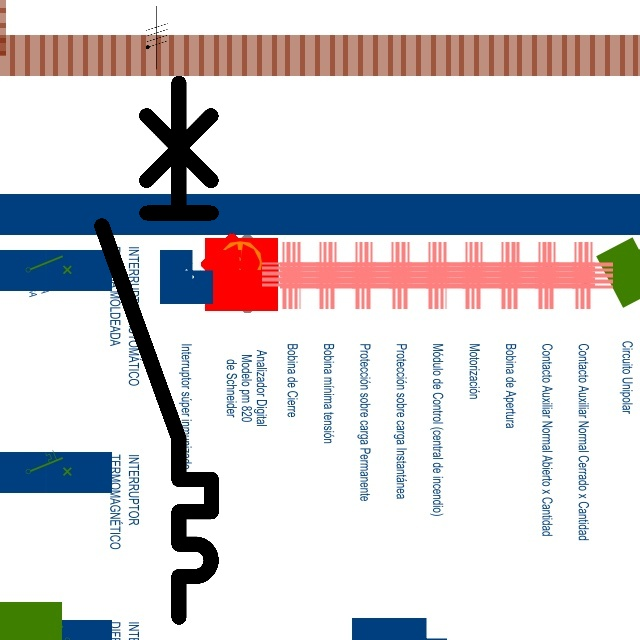interruptor_termomagnetico: (88, 69, 225, 631)
